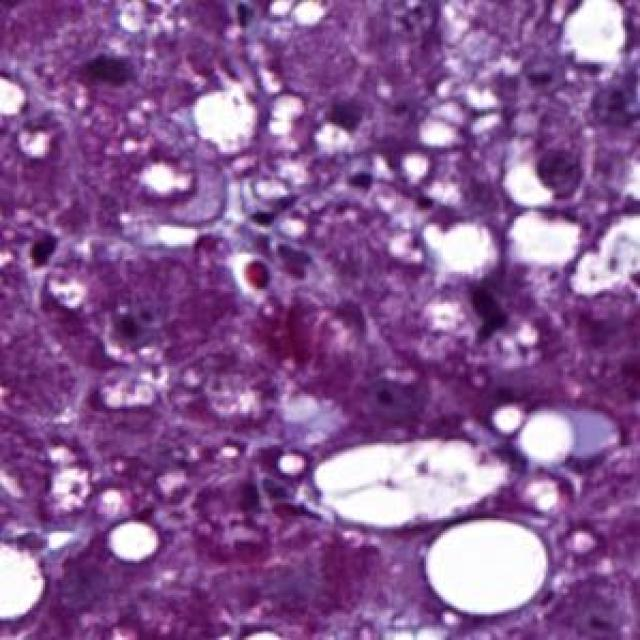ballooning: (314, 440, 506, 528), (51, 468, 90, 511)
